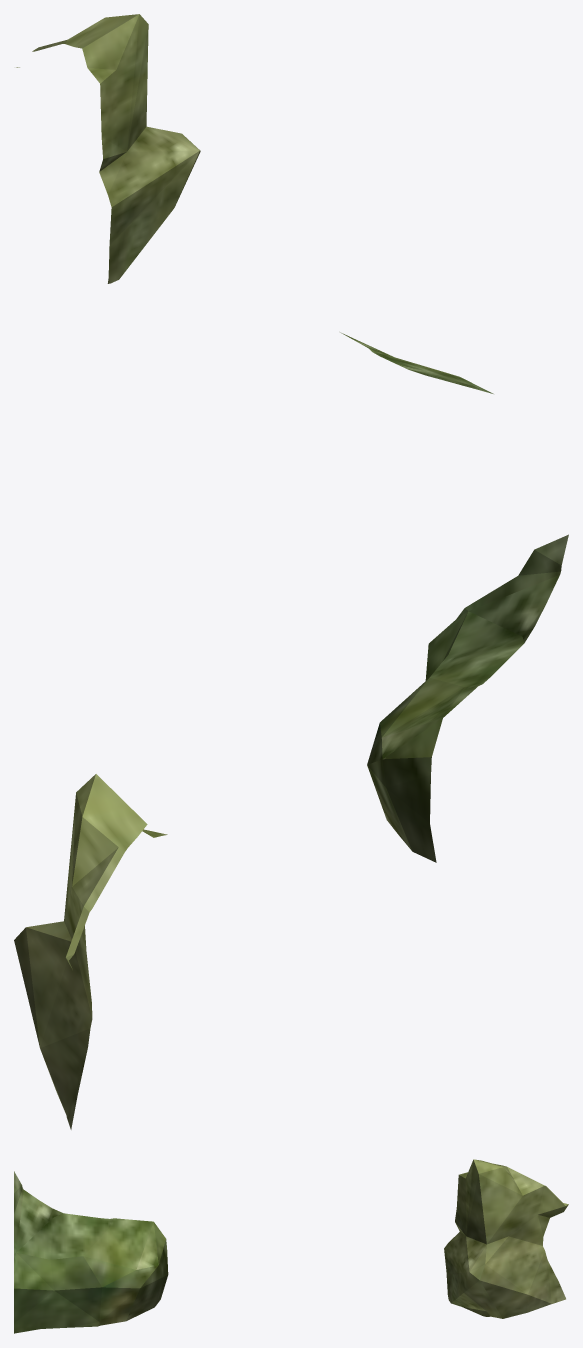
3 views of the same model, one above another, from view 1: azimuth 30°, elevation 25°; view 2: azimuth 150°, elevation 25°; view 3: azimuth 270°, elevation 25° (orthographic). The views are drawn at different scales.
Size of the model in its own units: 0.3189 by 0.6102 by 1.97.
Materials: 1 (1 with a texture image).
